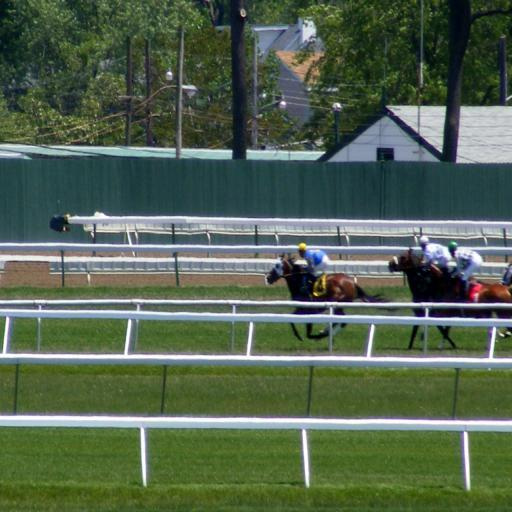horse: (266, 250, 402, 342), (416, 259, 512, 349), (386, 248, 456, 352)
